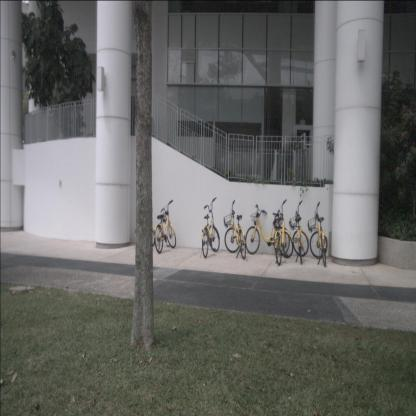vehicle-bicycle: (245, 203, 290, 255), (307, 202, 328, 266), (224, 200, 246, 260), (289, 200, 309, 265), (200, 197, 220, 259), (275, 199, 293, 266), (154, 200, 176, 254)
